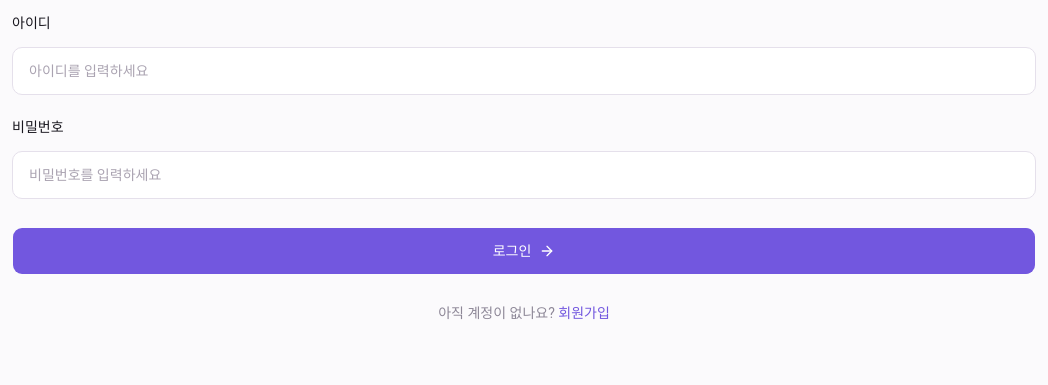
login API integration › validates empty inputs without sending a request
Step 1. Click the button "로그인" → (524, 251), box x1=12 y1=227 x2=1036 y2=275
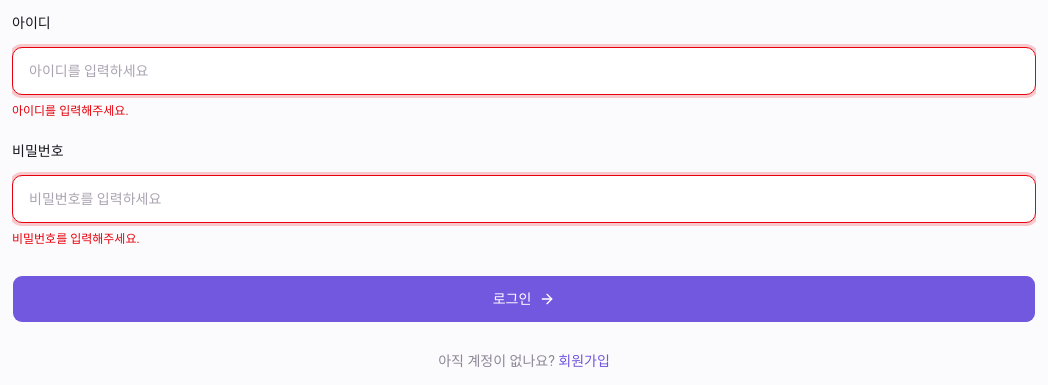
Check: the text "아이디를 입력해주세요." is shown, box x1=12 y1=104 x2=128 y2=118
